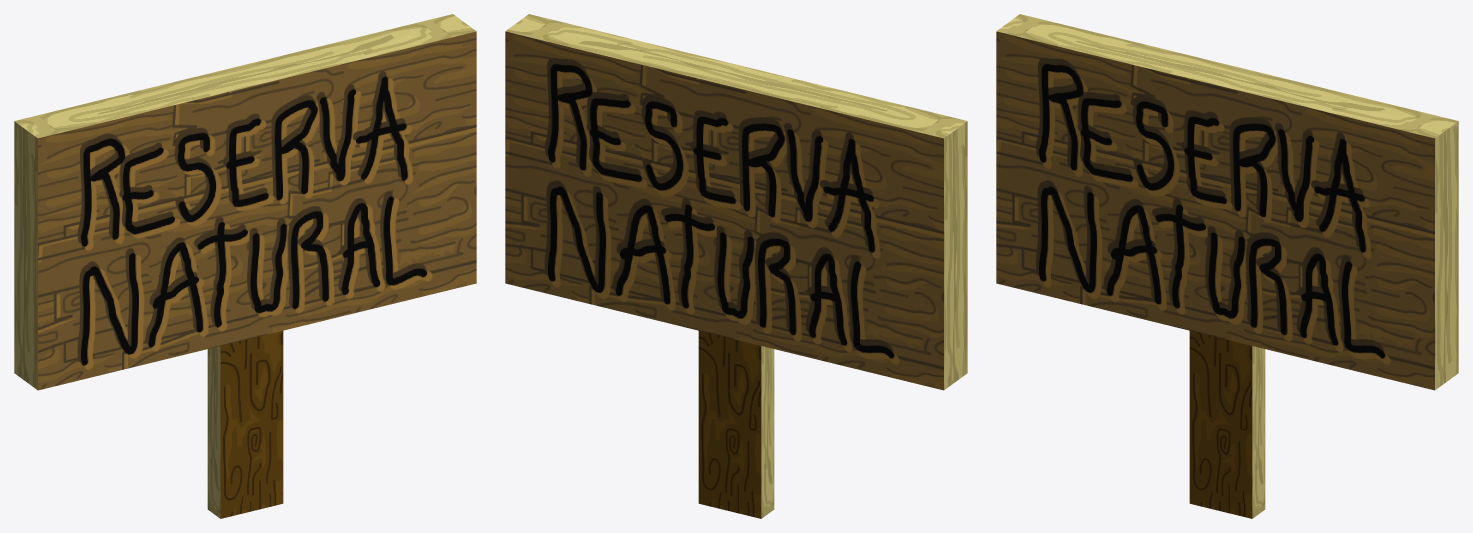
File: Letrero.fbx
3 views of the same model, side by side, from view 1: azimuth 30°, elevation 25°; view 2: azimuth 150°, elevation 25°; view 3: azimuth 330°, elevation 25° (orthographic).
Visible parts, largest first — view 1: Cube; view 2: Cube; view 3: Cube.
Boxes of the visible parts, <box> form: Cube: <box>14,14,476,518</box>; Cube: <box>505,14,967,518</box>; Cube: <box>996,14,1458,518</box>.
Size of the model in its own units: 364 by 342 by 34.25.
1 material, 1 textured.
